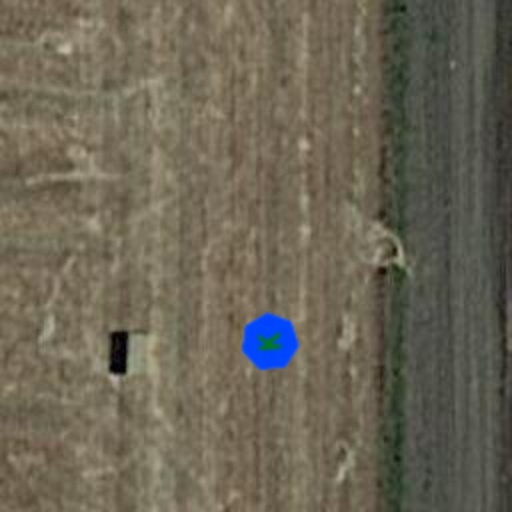heptagon: (236, 308, 304, 376)
